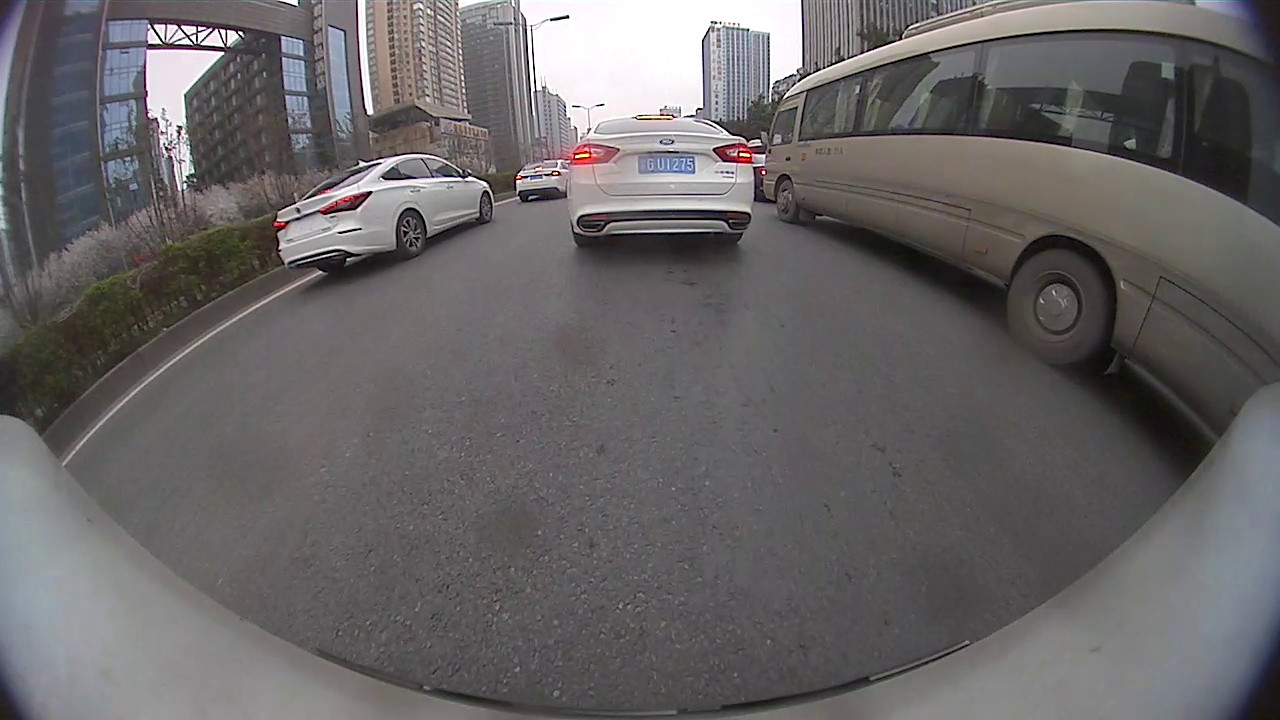bus: (769, 0, 1279, 449)
car: (270, 154, 494, 274), (564, 112, 756, 250), (516, 159, 568, 200), (753, 137, 766, 197)
front: (775, 179, 801, 227), (478, 191, 495, 224)
rear: (1004, 248, 1109, 368), (397, 211, 427, 257)
